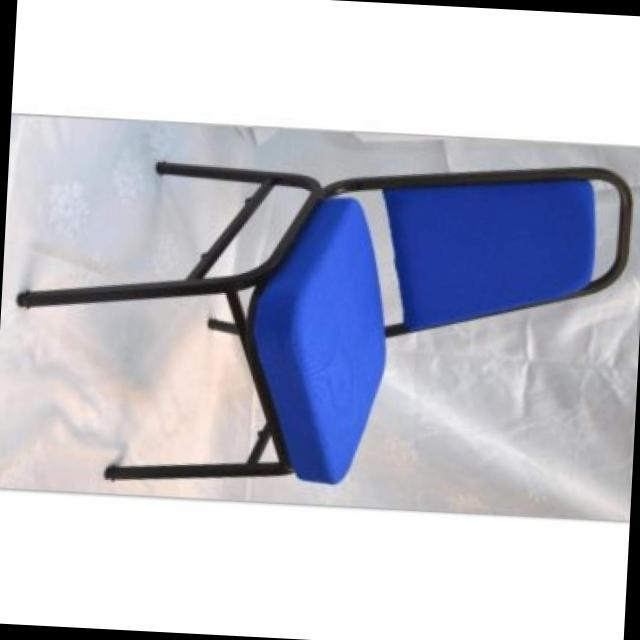Chair: (5, 134, 640, 516)
